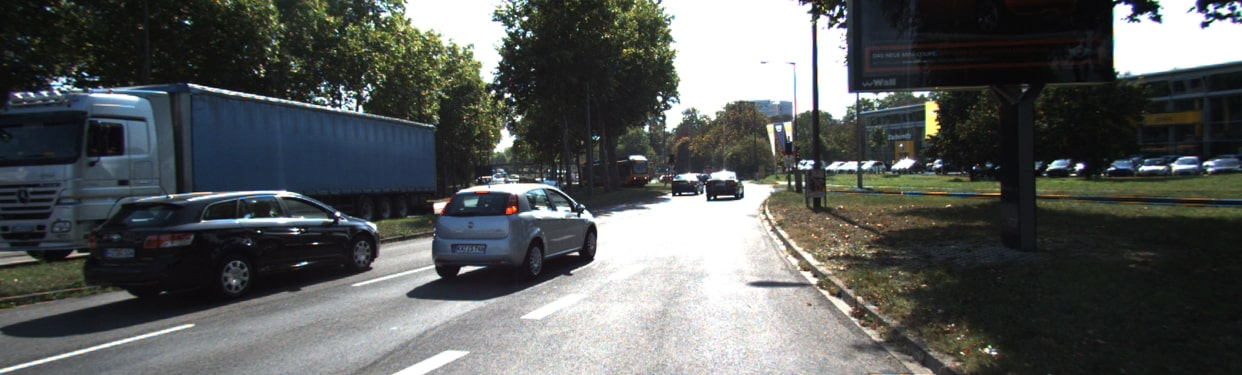Tram: (576, 151, 647, 188)
car: (6, 113, 440, 262), (78, 184, 389, 326), (426, 177, 616, 290), (701, 167, 741, 198), (664, 174, 704, 192)
